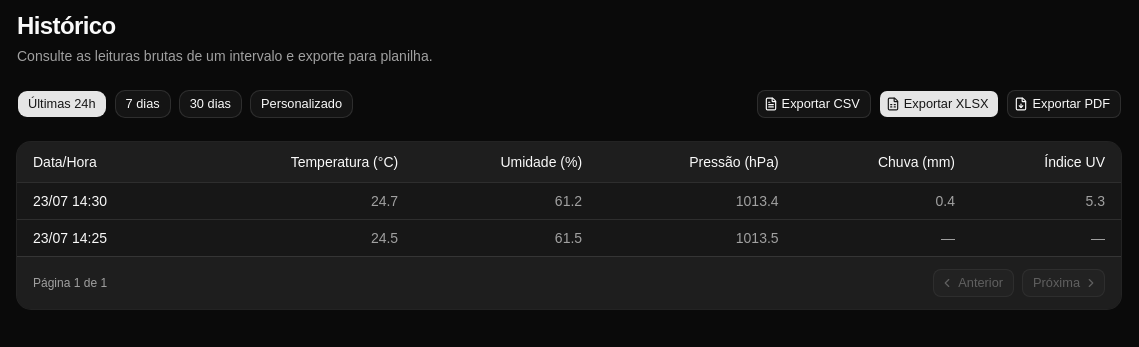
Scenario: HistoryPage › Exportar PDF (pedido do usuário, 2026-09-29) › falha na geração mostra a mensagem de erro sem quebrar a página
Expected: the text "24.7" is shown, [188, 182, 414, 219]
Click the button "Exportar PDF" at (1064,104), box [1008, 90, 1121, 118]
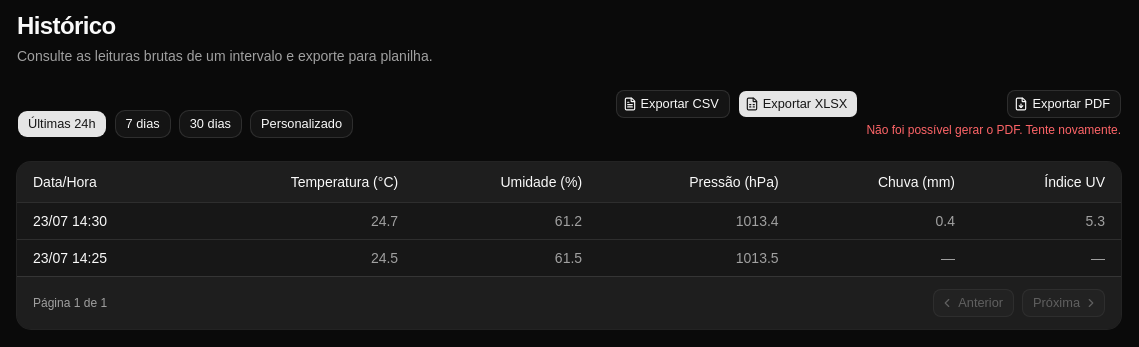
Expected: the message shows "Não foi possível gerar o PDF", [866, 123, 1121, 137]
